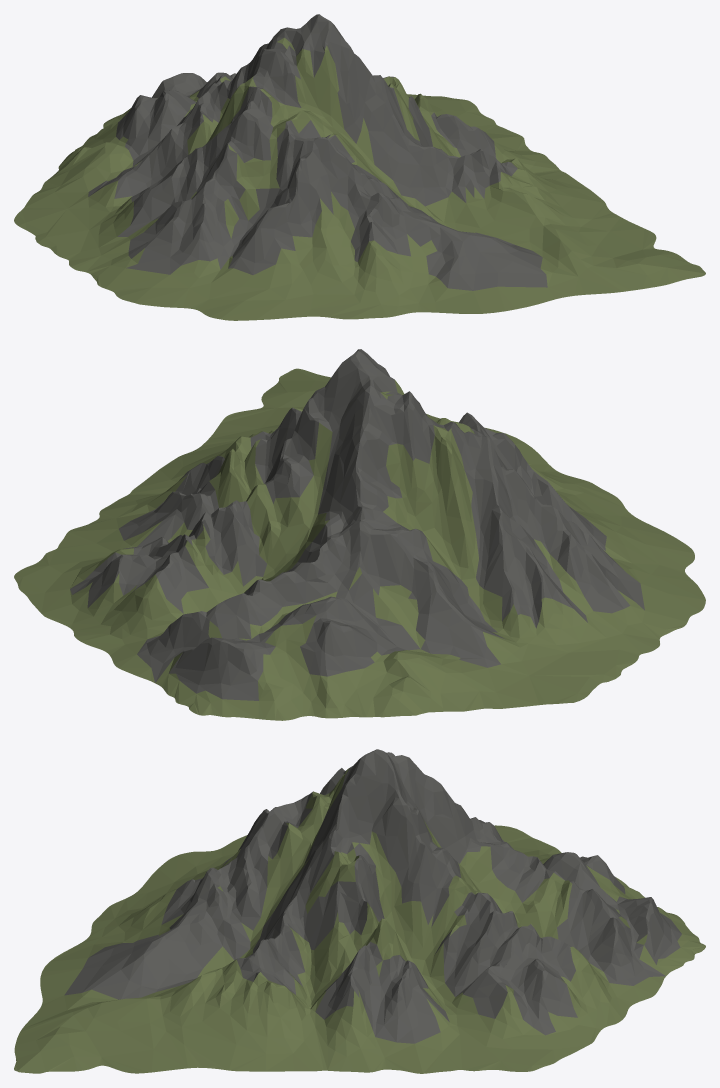
File: SM_Envr_Nature_Mountain_05.fbx
3 renders of one model, top to bottom at view 1: azimuth 30°, elevation 25°; view 2: azimuth 150°, elevation 25°; view 3: azimuth 270°, elevation 25°, orthographic. The views are drawn at different scales.
Parts seen in each view (by area): view 1: SM_Envr_Nature_Mountain_05; view 2: SM_Envr_Nature_Mountain_05; view 3: SM_Envr_Nature_Mountain_05.
Boxes of the visible parts, bbox=[...] form: SM_Envr_Nature_Mountain_05: bbox=[14, 14, 705, 320]; SM_Envr_Nature_Mountain_05: bbox=[14, 349, 705, 720]; SM_Envr_Nature_Mountain_05: bbox=[14, 749, 705, 1073].
Bounding box in the file's own units: 70737 × 27377 × 82840.
